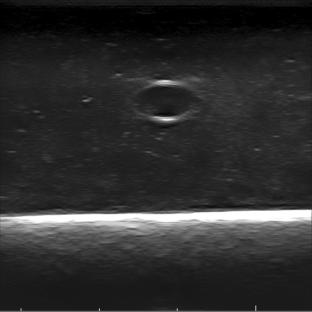vessel: (132, 79, 202, 122)
